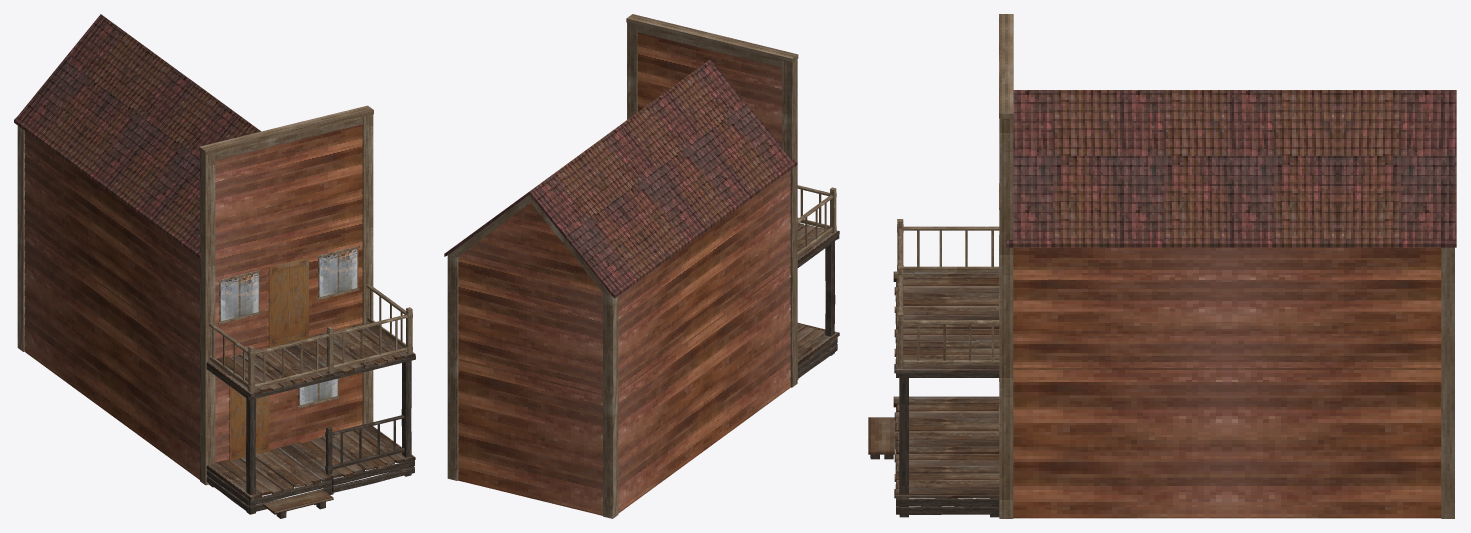
The model's file is House_4mx8m.fbx.
The picture shows the model from 3 angles, left to right: view 1: azimuth 30°, elevation 25°; view 2: azimuth 150°, elevation 25°; view 3: azimuth 270°, elevation 25°; orthographic projection. The views are drawn at different scales.
Visible parts, largest first — view 1: House_4mx8m; view 2: House_4mx8m; view 3: House_4mx8m.
Boxes of the visible parts, box(x1,y1,x2,y2) form: House_4mx8m: box(14, 14, 415, 518); House_4mx8m: box(444, 14, 839, 518); House_4mx8m: box(868, 14, 1456, 518).
Bounding box in the file's own units: 439 × 810 × 1065.
Materials: 7 (7 with a texture image).
